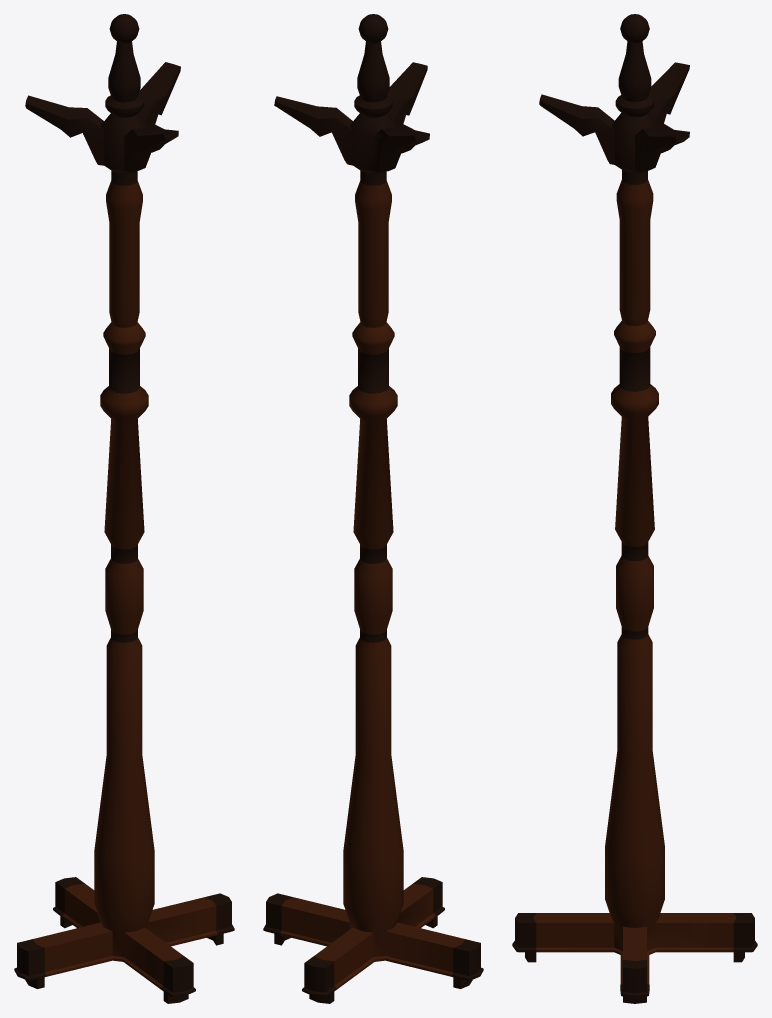
Rendered from CoatRack_Justin.FBX.
3 renders of one model, left to right at view 1: azimuth 30°, elevation 25°; view 2: azimuth 150°, elevation 25°; view 3: azimuth 270°, elevation 25°, orthographic.
Parts seen in each view (by area): view 1: Sphere001; view 2: Sphere001; view 3: Sphere001.
Part boxes in pixels (left/top/right/bottom): Sphere001: left=14, top=14, right=234, bottom=1003; Sphere001: left=263, top=14, right=483, bottom=1003; Sphere001: left=512, top=14, right=757, bottom=1003.
Size of the model in its own units: 30.47 by 129 by 30.47.
